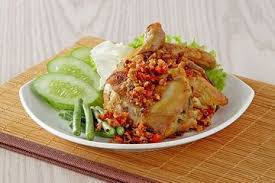ayam_geprek: (112, 35, 215, 139)
